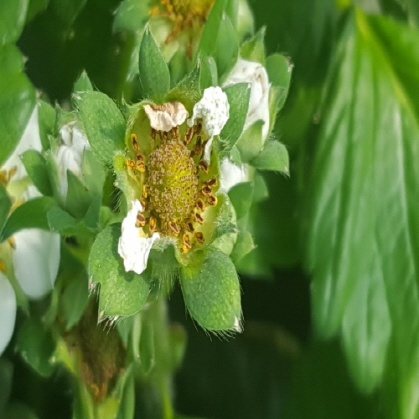Blossom_BT: (187, 110, 305, 265)
